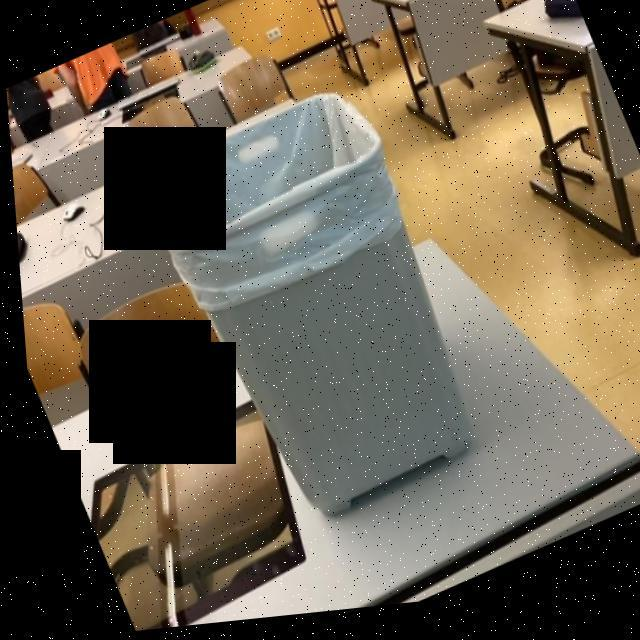bin: (93, 12, 530, 582)
